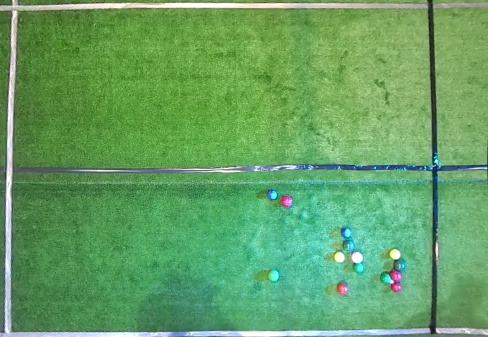blue: (267, 190, 277, 200), (341, 228, 351, 237)
green: (393, 260, 405, 271), (342, 240, 354, 250), (268, 270, 278, 281), (380, 273, 390, 283), (354, 263, 363, 273)
red: (281, 196, 293, 207), (351, 252, 363, 263), (338, 283, 348, 294), (391, 271, 402, 281), (391, 282, 401, 291)
vline: (428, 0, 487, 336), (0, 0, 20, 336)
white: (390, 280, 394, 284)
yellow: (390, 249, 401, 259), (334, 252, 344, 262)
